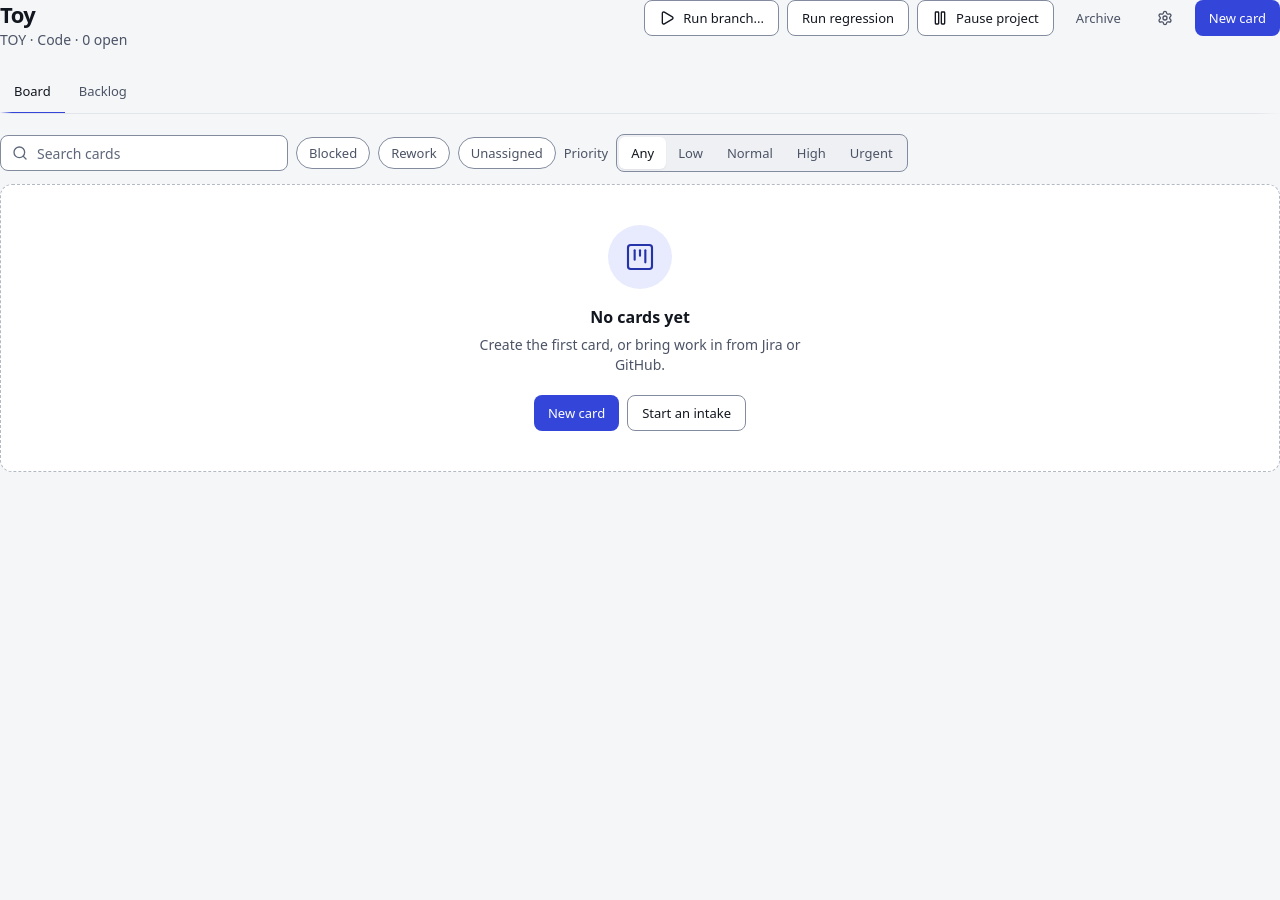
Test: pause project button › opens an in-page dialog that explains the effect, takes an optional reason and pauses; the banner follows
Step 1. Click the button with test id "pause-project-open" → [985, 18], box [917,0,1054,36]
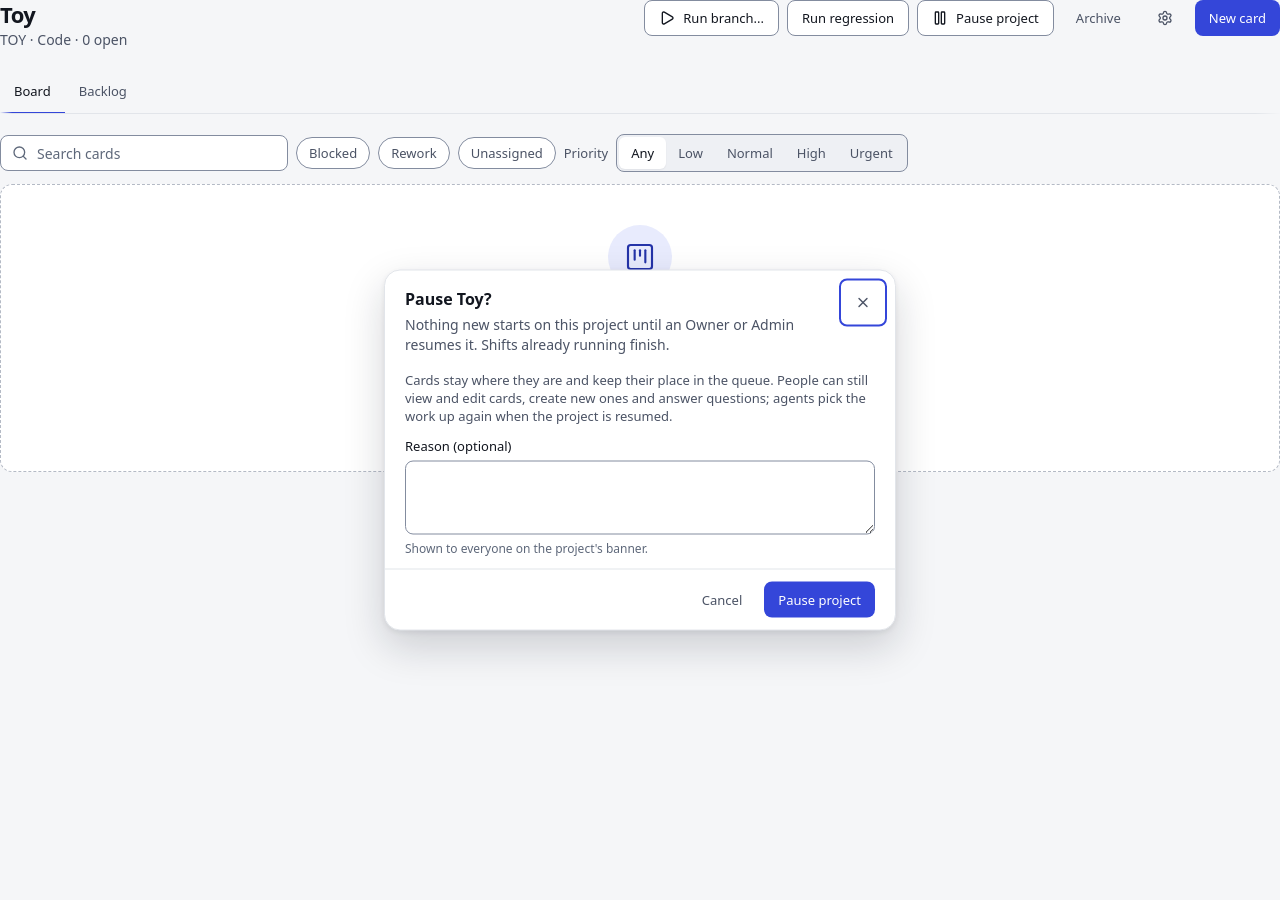
Check: the dialog shows "Nothing new starts on this project until an Owner or Admin resumes it.", box [405,314,794,354]
Check: the dialog shows "Shifts already running finish.", box [405,314,794,354]
Step 2. Type "Release freeze until Friday" into the text box with test id "pause-project-reason" → [640, 498], box [405,460,875,534]
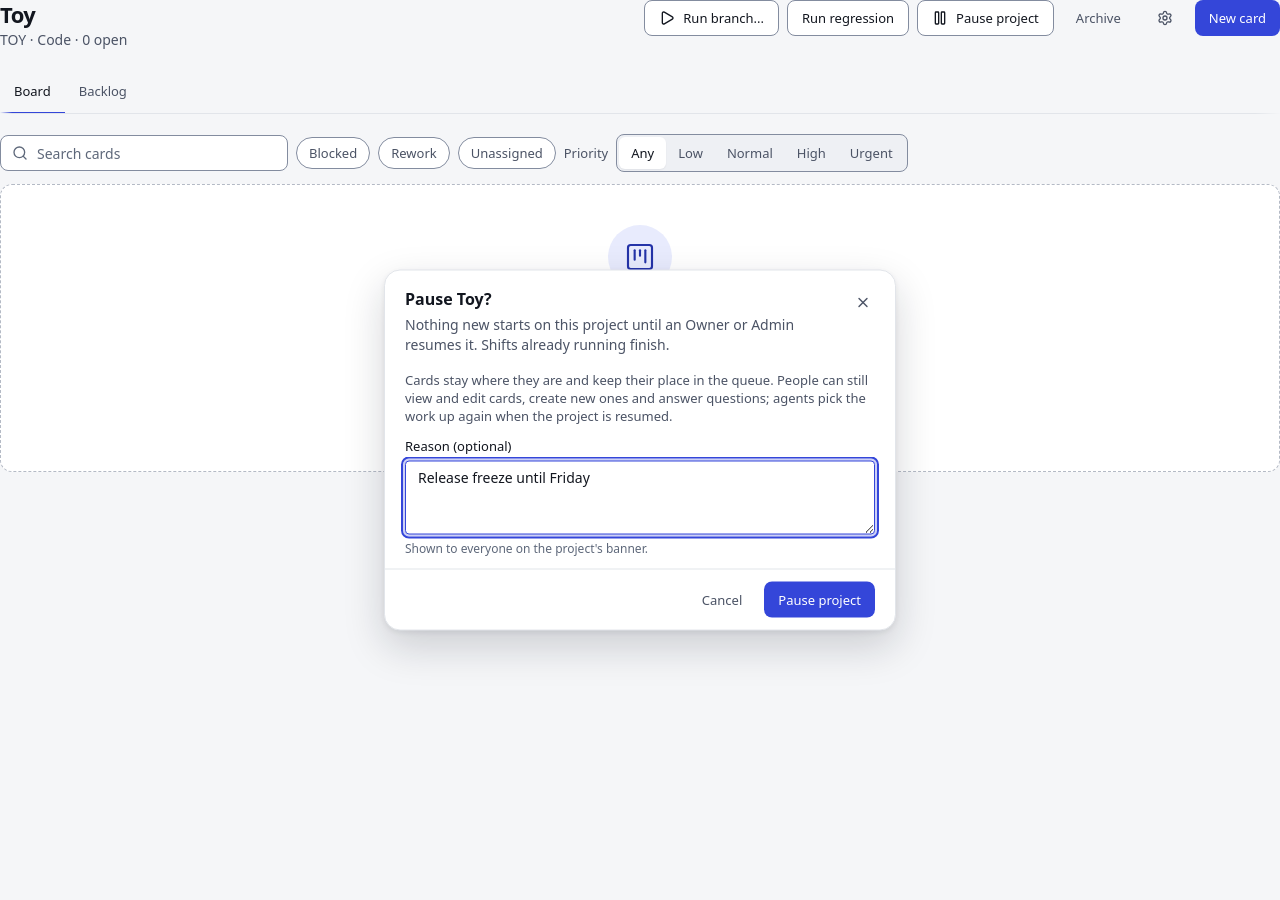
Step 3. Click the button with test id "pause-project-confirm" → [820, 600], box [764,582,875,618]
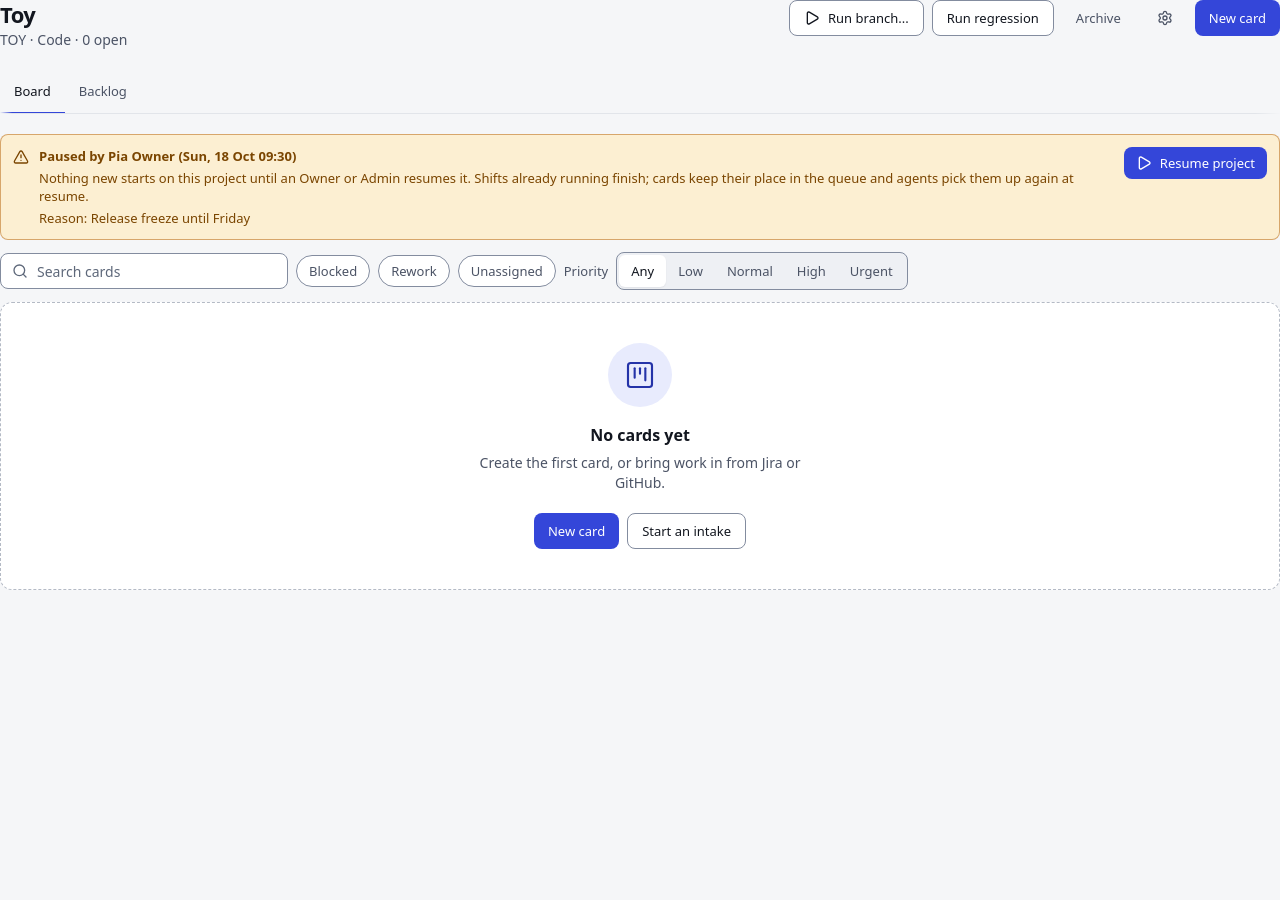
Check: the message with test id "project-paused-banner" shows "Paused by Pia Owner", box [39,147,296,165]
Check: the text with test id "project-paused-reason" shows "Release freeze until Friday", box [91,209,250,227]
Check: the button with test id "pause-project-open" is gone
